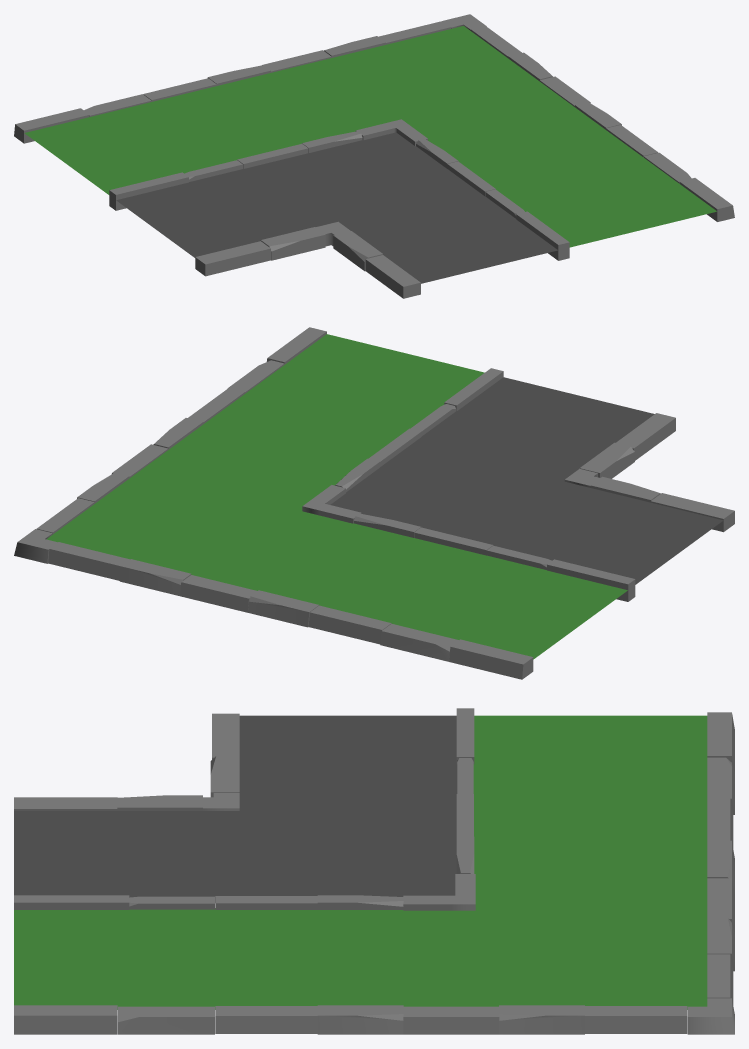
The model's file is SM_pedestrian_walk_suburbs_02.fbx.
3 renders of one model, top to bottom at view 1: azimuth 30°, elevation 25°; view 2: azimuth 150°, elevation 25°; view 3: azimuth 270°, elevation 25°, orthographic. The views are drawn at different scales.
Parts seen in each view (by area): view 1: Object179; view 2: Object179; view 3: Object179.
Boxes of the visible parts, bbox=[...] form: Object179: bbox=[14, 14, 734, 298]; Object179: bbox=[14, 327, 734, 679]; Object179: bbox=[14, 708, 734, 1034].
Size of the model in its own units: 290 by 9.66 by 290.
